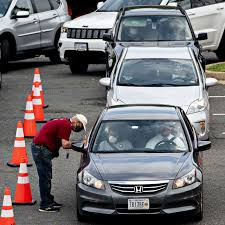car: (70, 104, 212, 220), (99, 46, 219, 148), (59, 1, 225, 63), (103, 7, 210, 72), (1, 1, 72, 58)
cone: (10, 120, 31, 165), (14, 160, 32, 204), (23, 95, 37, 137), (1, 184, 15, 225), (32, 81, 46, 121), (34, 67, 47, 106)
